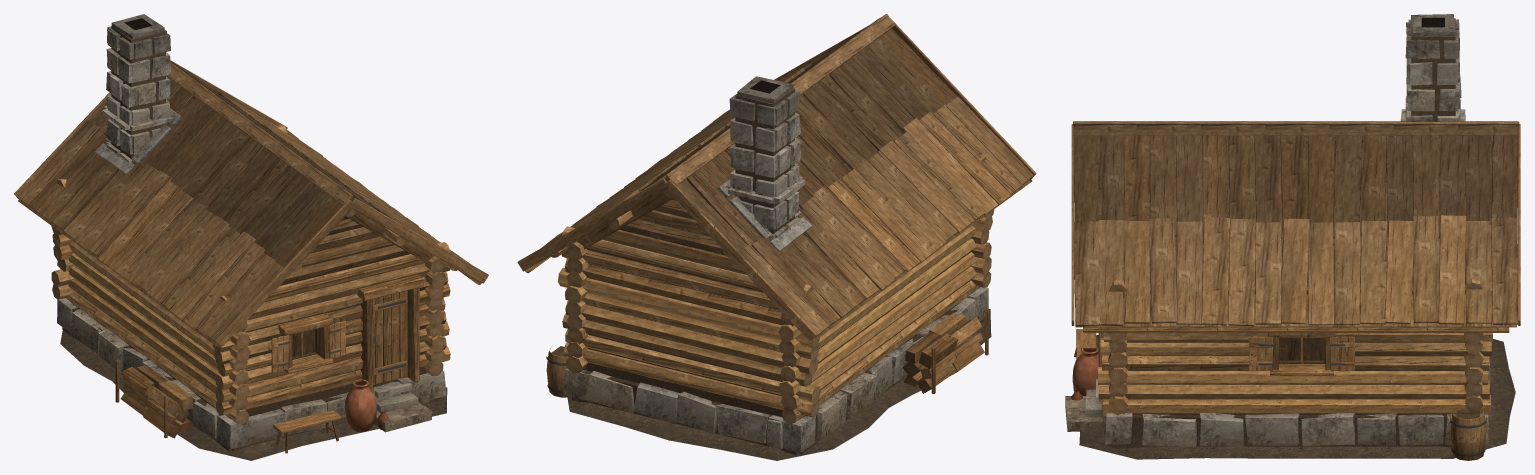
File: village-house-1-lite-v3b.glb
The picture shows the model from 3 angles, left to right: view 1: azimuth 30°, elevation 25°; view 2: azimuth 150°, elevation 25°; view 3: azimuth 270°, elevation 25°; orthographic projection. The views are drawn at different scales.
Parts seen in each view (by area): view 1: village-house-1; view 2: village-house-1; view 3: village-house-1.
Part boxes in pixels (x1=…): village-house-1: x1=14, y1=14, x2=488, y2=460; village-house-1: x1=517, y1=14, x2=1036, y2=460; village-house-1: x1=1065, y1=14, x2=1520, y2=460.
Bounding box in the file's own units: 6.08 × 6.53 × 7.8.
Materials: 6 (5 with a texture image).
